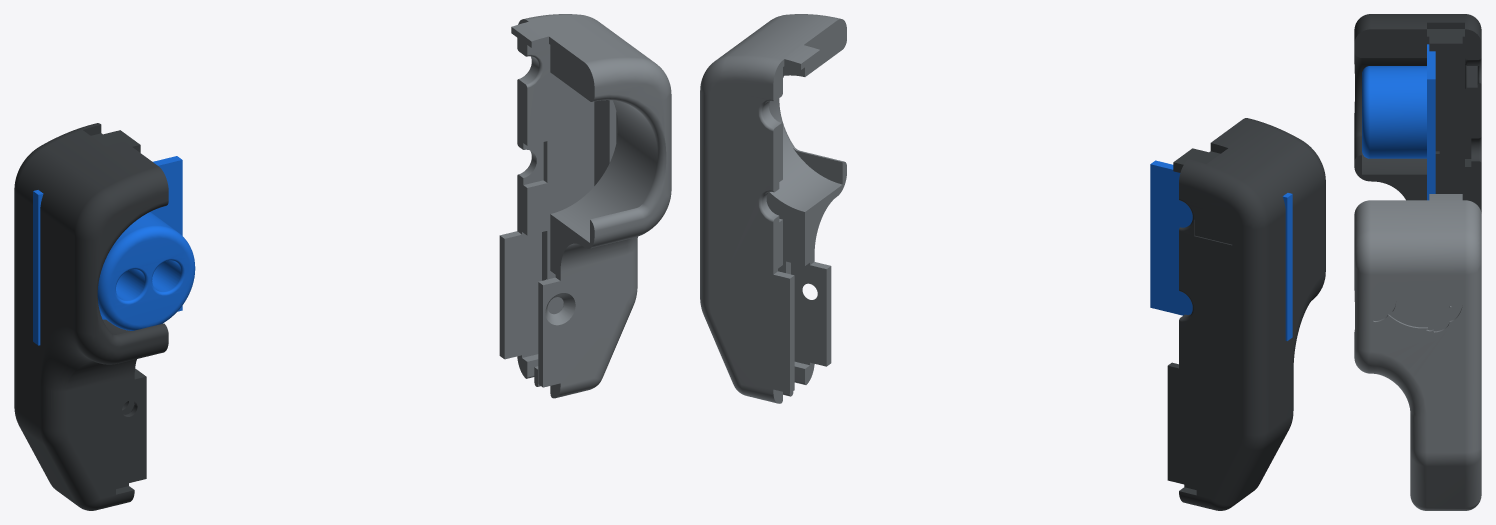
File: optical-probe-exploded.glb
3 renders of one model, left to right at view 1: azimuth 30°, elevation 25°; view 2: azimuth 150°, elevation 25°; view 3: azimuth 270°, elevation 25°, orthographic. The views are drawn at different scales.
Size of the model in its own units: 0.1131 by 0.0651 by 0.0254.
